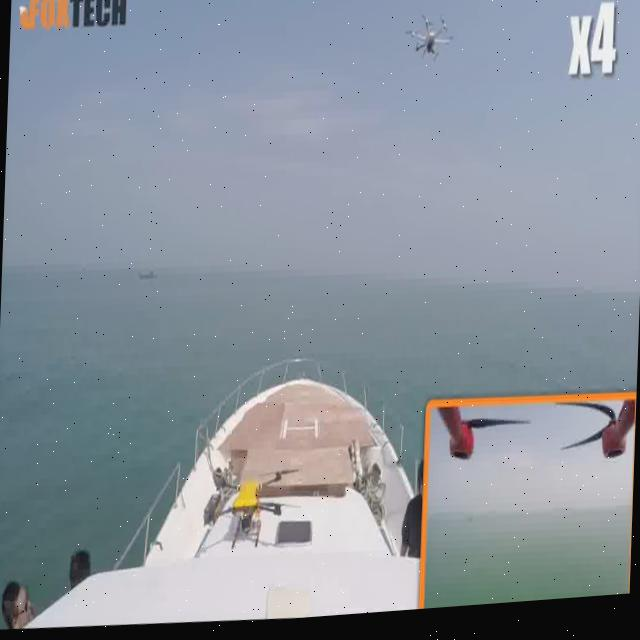drone: (198, 454, 304, 567), (397, 2, 461, 80)
